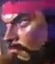ryu: (1, 0, 49, 63)
